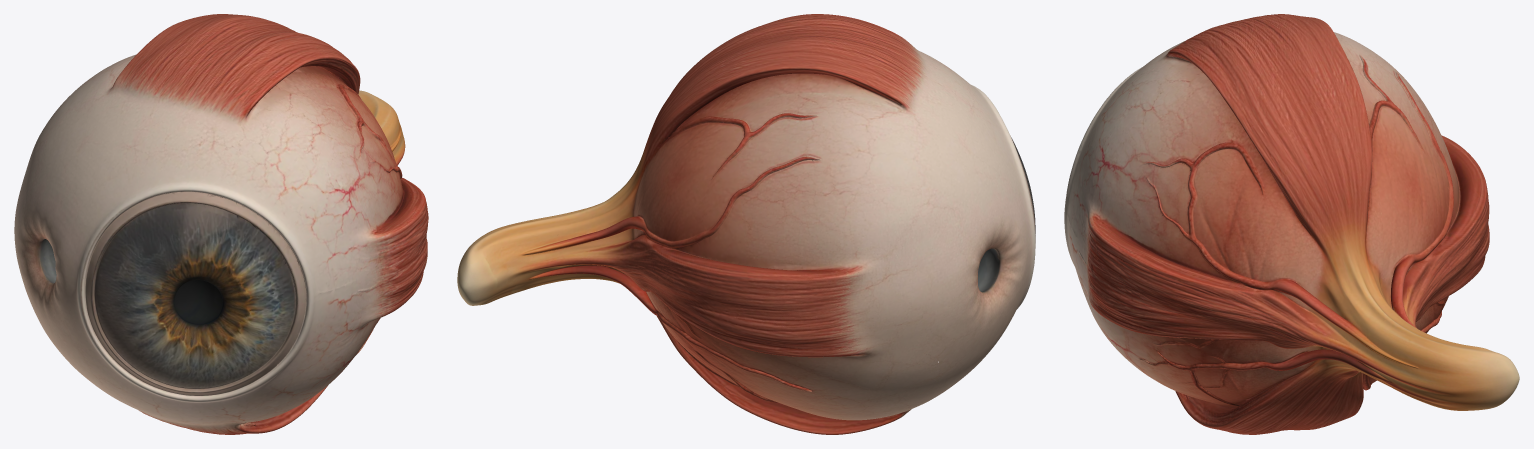
File: eyeball.glb
3 renders of one model, left to right at view 1: azimuth 30°, elevation 25°; view 2: azimuth 150°, elevation 25°; view 3: azimuth 270°, elevation 25°, orthographic.
Parts seen in each view (by area): view 1: tripo_node_ebf243bf-d3b6-4331-9960-3b03130a2b84; view 2: tripo_node_ebf243bf-d3b6-4331-9960-3b03130a2b84; view 3: tripo_node_ebf243bf-d3b6-4331-9960-3b03130a2b84.
Part boxes in pixels (box(x1,y1,x2,y2)): tripo_node_ebf243bf-d3b6-4331-9960-3b03130a2b84: box(14, 14, 428, 434); tripo_node_ebf243bf-d3b6-4331-9960-3b03130a2b84: box(457, 14, 1035, 434); tripo_node_ebf243bf-d3b6-4331-9960-3b03130a2b84: box(1064, 14, 1519, 434).
Bounding box in the file's own units: 0.9793 × 0.8046 × 0.8529.
1 material, 1 textured.
